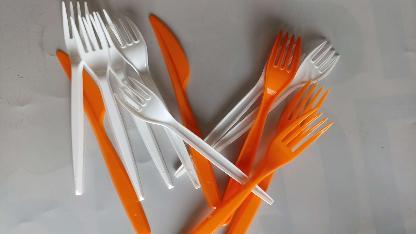Others: (181, 77, 332, 234), (113, 74, 277, 206), (184, 106, 336, 234), (55, 46, 153, 234), (202, 38, 344, 164), (222, 28, 304, 232), (106, 16, 202, 190), (84, 7, 174, 190), (142, 11, 223, 213), (66, 13, 146, 203), (58, 0, 92, 198)
